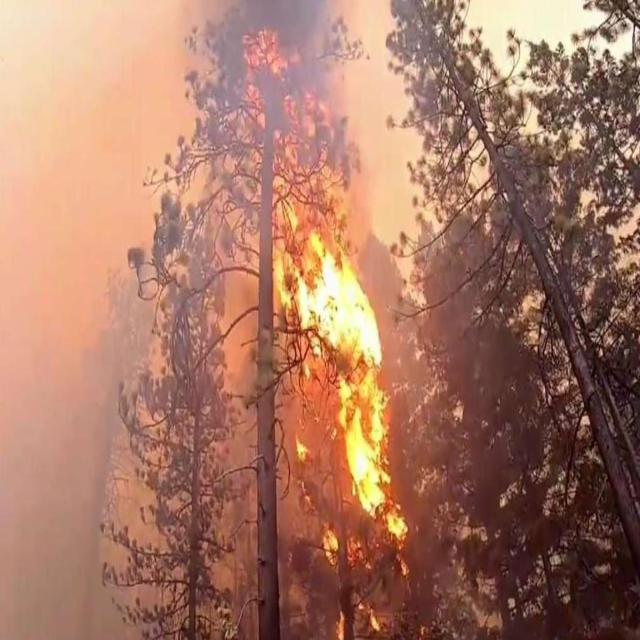Fire: (274, 160, 418, 558)
